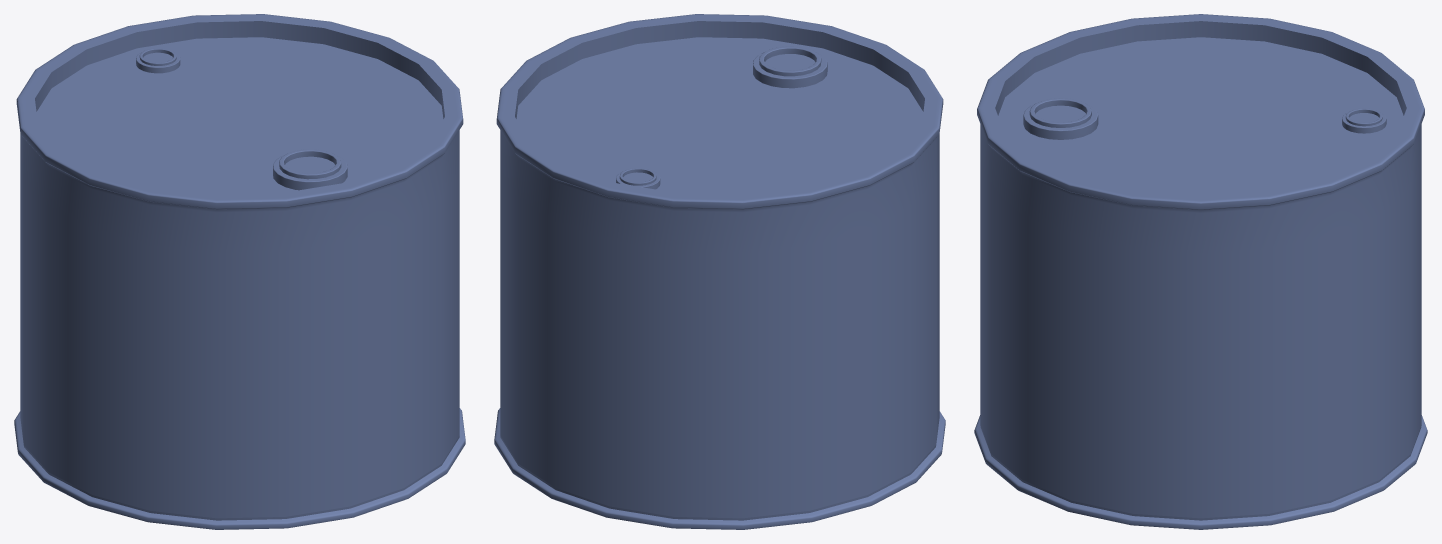
File: Barrel_5_low.fbx
3 views of the same model, side by side, from view 1: azimuth 30°, elevation 25°; view 2: azimuth 150°, elevation 25°; view 3: azimuth 270°, elevation 25° (orthographic).
Parts seen in each view (by area): view 1: Barrel_5_low1; view 2: Barrel_5_low1; view 3: Barrel_5_low1.
Boxes of the visible parts, x1,y1,x2,y2 form: Barrel_5_low1: [14, 14, 465, 529]; Barrel_5_low1: [494, 14, 945, 529]; Barrel_5_low1: [974, 14, 1427, 529].
Bounding box in the file's own units: 35.34 × 28.14 × 35.35.
